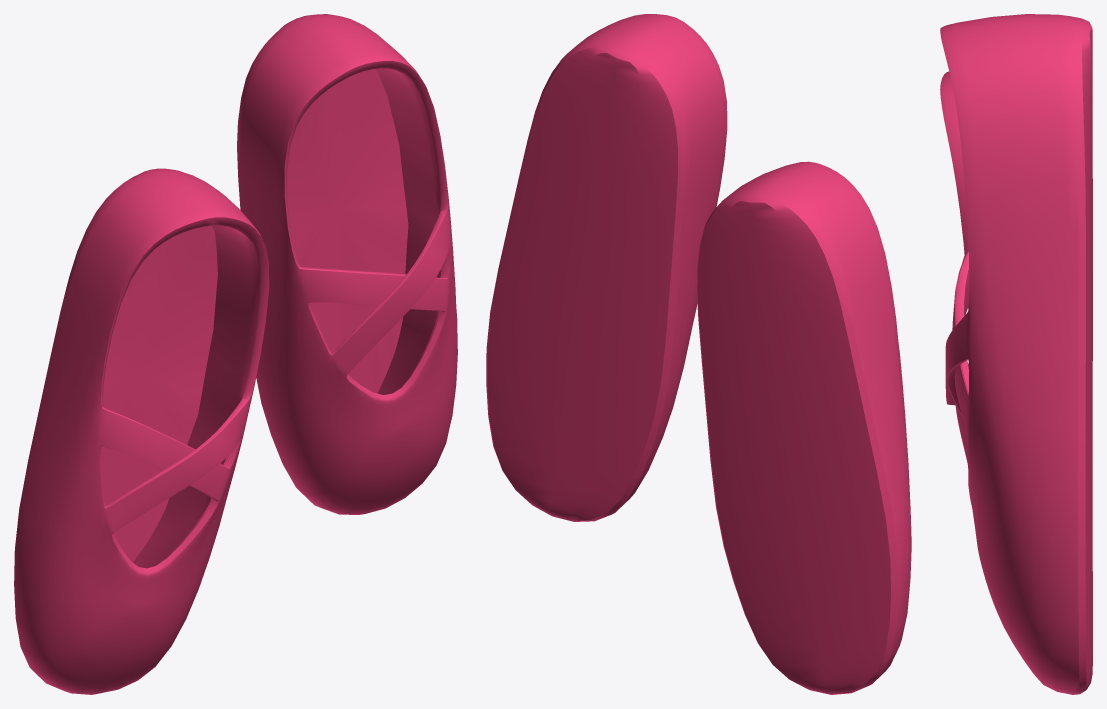
File: ballet_shoes.glb
3 views of the same model, side by side, from view 1: azimuth 30°, elevation 25°; view 2: azimuth 150°, elevation 25°; view 3: azimuth 270°, elevation 25° (orthographic). The views are drawn at different scales.
Visible parts, largest first — view 1: Sphere.369, Sphere.360; view 2: Sphere.369, Sphere.360; view 3: Sphere.360, Sphere.369.
Part boxes in pixels (<box>): Sphere.369: <box>14,168,269,694</box>; Sphere.360: <box>237,14,457,514</box>; Sphere.369: <box>696,161,911,694</box>; Sphere.360: <box>486,14,727,521</box>; Sphere.360: <box>940,14,1092,694</box>; Sphere.369: <box>940,71,1092,589</box>.
Size of the model in its own units: 1.54 by 2.13 by 0.3813.
Materials: 1 (1 with a texture image).
